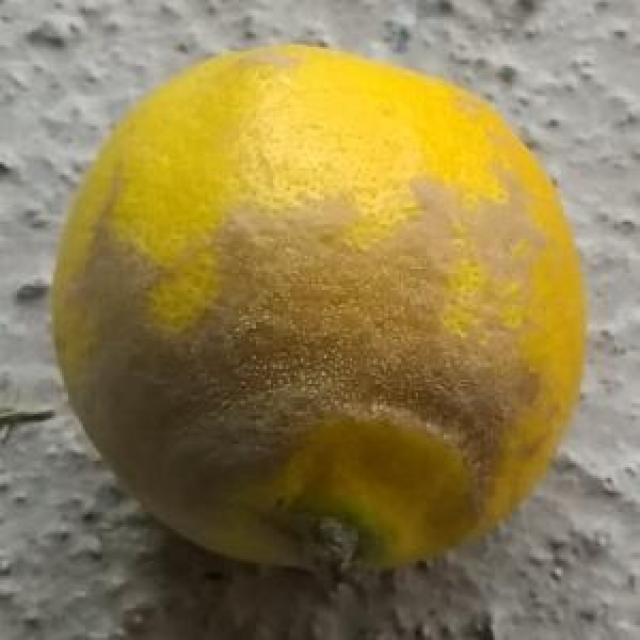lemon: (47, 38, 590, 588)
